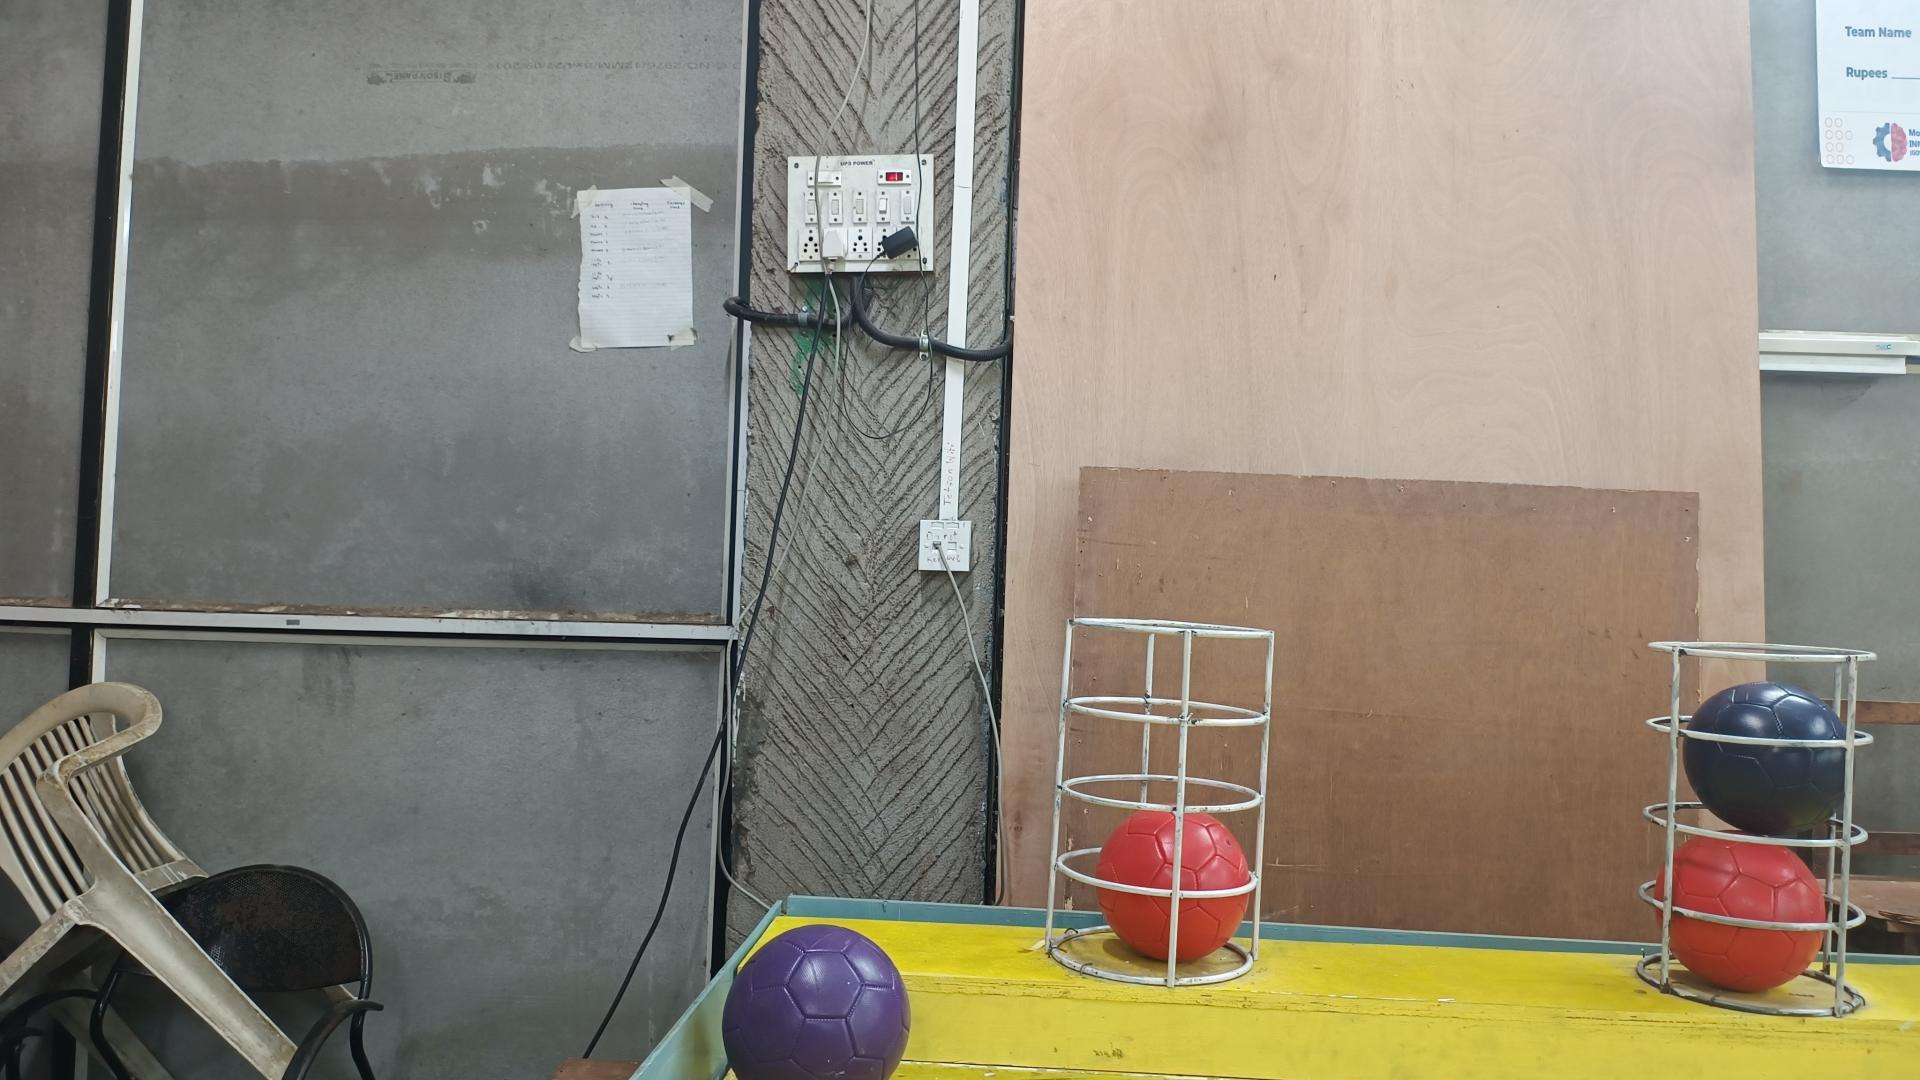dhoka: (1685, 682, 1847, 836)
laale: (1652, 833, 1828, 990), (1093, 808, 1254, 959)
